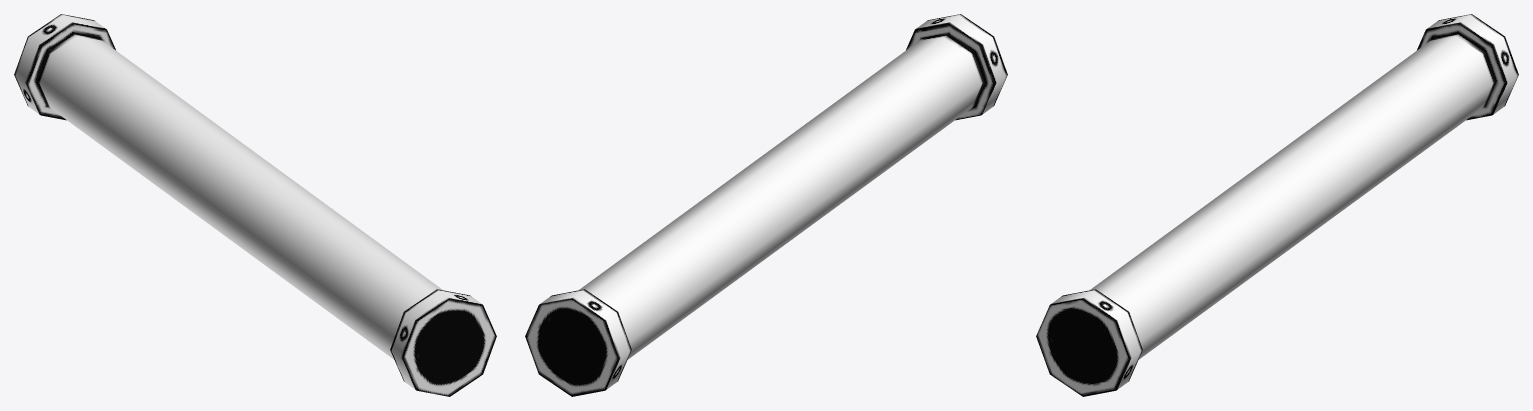
Rendered from Pipe1_Long.glb.
3 views of the same model, side by side, from view 1: azimuth 30°, elevation 25°; view 2: azimuth 150°, elevation 25°; view 3: azimuth 330°, elevation 25° (orthographic).
Visible parts, largest first — view 1: Pipe1_Long; view 2: Pipe1_Long; view 3: Pipe1_Long.
Boxes of the visible parts, bbox=[...] form: Pipe1_Long: bbox=[14, 14, 496, 396]; Pipe1_Long: bbox=[525, 14, 1007, 396]; Pipe1_Long: bbox=[1036, 14, 1518, 396].
Size of the model in its own units: 0.2801 by 0.2801 by 2.01.
1 material, 1 textured.
